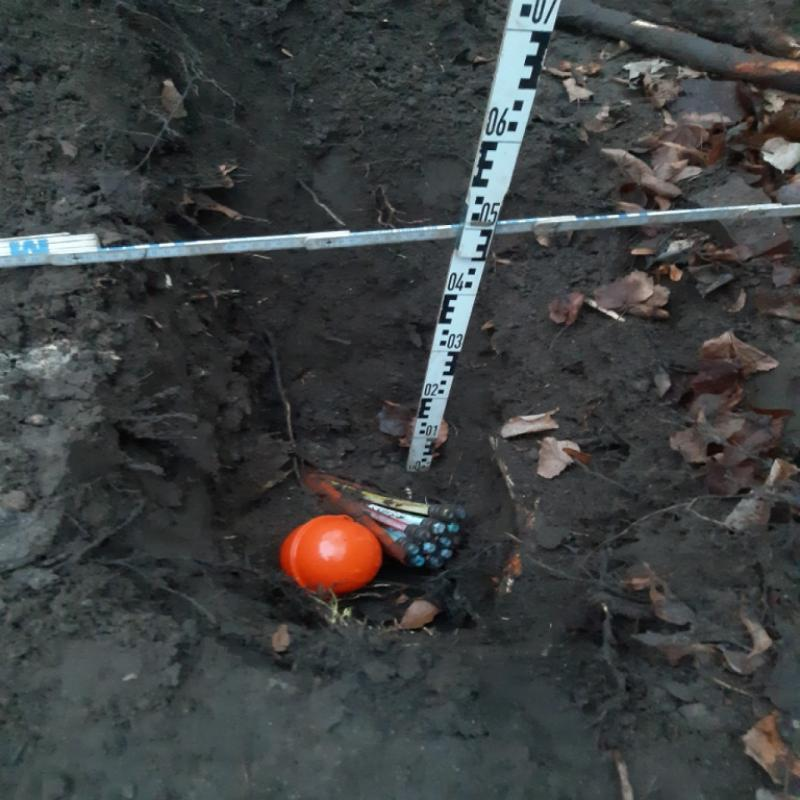Kugelmarker: (277, 517, 381, 593)
Orang-Speednetrohrchen: (303, 464, 464, 570)
